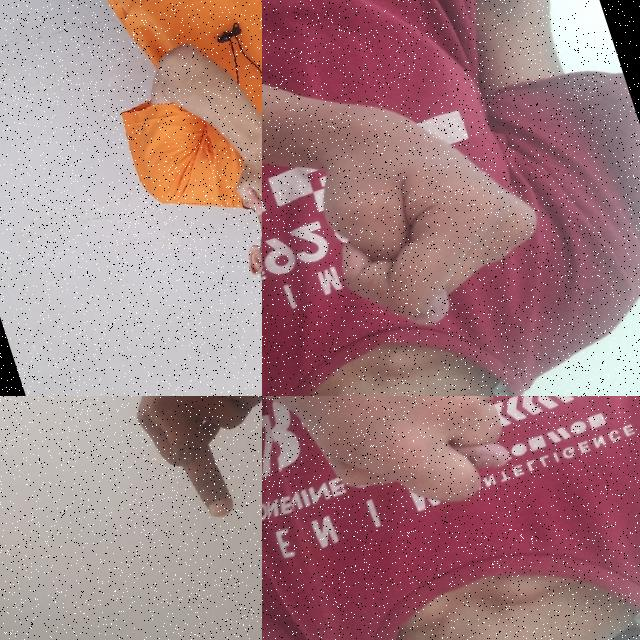Chin Flick: (201, 104, 262, 359)
Dulya: (262, 38, 564, 358), (262, 396, 557, 556)
Middle Finger: (92, 396, 262, 538)
